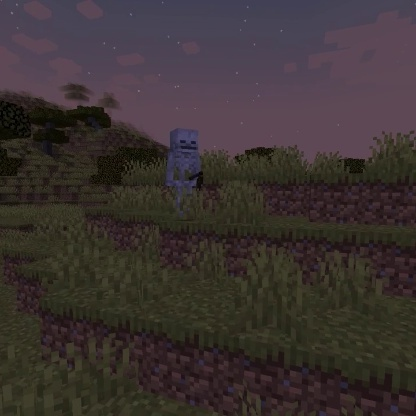skeleton: (162, 125, 206, 214)
